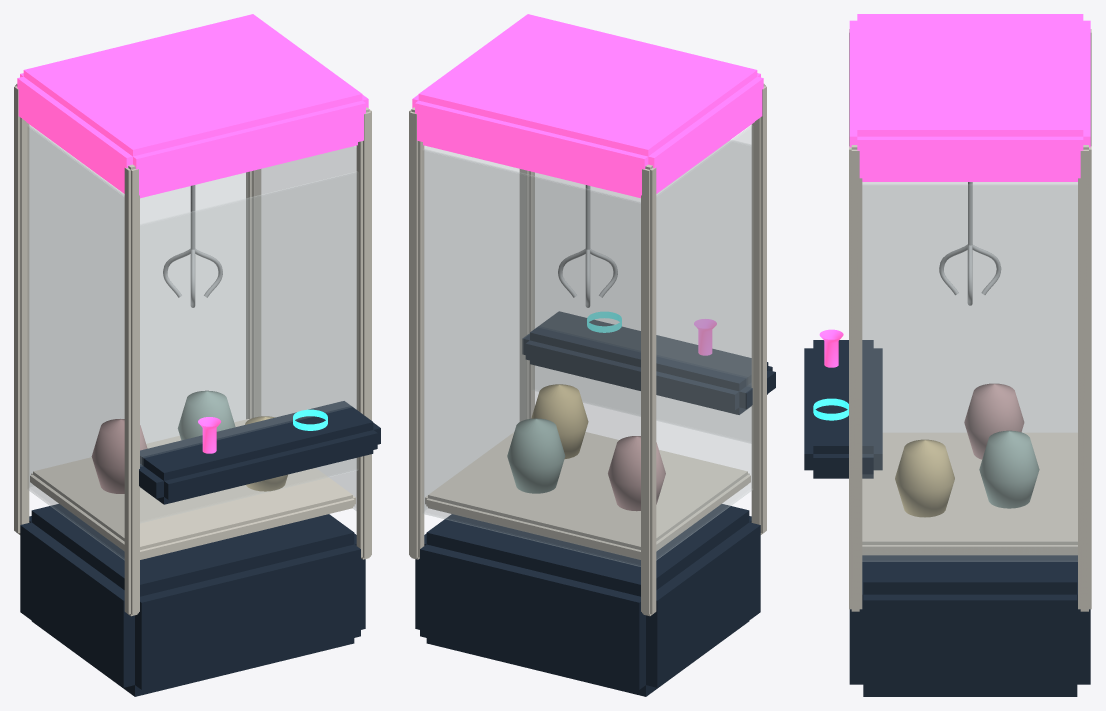
Rendered from fixture_v25_prize_crane.glb.
3 renders of one model, left to right at view 1: azimuth 30°, elevation 25°; view 2: azimuth 150°, elevation 25°; view 3: azimuth 270°, elevation 25°, orthographic. The views are drawn at different scales.
Parts seen in each view (by area): view 1: fixture_v25_prize_crane_Shop_display_glass, fixture_v25_prize_crane_V25_arcade_navy, fixture_v25_prize_crane_V25_neon_pink, fixture_v25_prize_crane_V25_satin_ivory, fixture_v25_prize_crane_V25_prize_0, fixture_v25_prize_crane_V25_prize_1, fixture_v25_prize_crane_Brushed_stainless; view 2: fixture_v25_prize_crane_Shop_display_glass, fixture_v25_prize_crane_V25_arcade_navy, fixture_v25_prize_crane_V25_satin_ivory, fixture_v25_prize_crane_V25_neon_pink, fixture_v25_prize_crane_V25_prize_1, fixture_v25_prize_crane_V25_prize_2, fixture_v25_prize_crane_V25_prize_0, fixture_v25_prize_crane_Brushed_stainless; view 3: fixture_v25_prize_crane_Shop_display_glass, fixture_v25_prize_crane_V25_arcade_navy, fixture_v25_prize_crane_V25_neon_pink, fixture_v25_prize_crane_V25_satin_ivory, fixture_v25_prize_crane_V25_prize_1, fixture_v25_prize_crane_V25_prize_2, fixture_v25_prize_crane_V25_prize_0, fixture_v25_prize_crane_Brushed_stainless, fixture_v25_prize_crane_V25_neon_cyan.
Part boxes in pixels (bbox=[...]): fixture_v25_prize_crane_Shop_display_glass: bbox=[28, 125, 358, 560]; fixture_v25_prize_crane_V25_arcade_navy: bbox=[20, 401, 380, 696]; fixture_v25_prize_crane_V25_neon_pink: bbox=[17, 14, 368, 453]; fixture_v25_prize_crane_V25_satin_ivory: bbox=[14, 83, 371, 616]; fixture_v25_prize_crane_V25_prize_0: bbox=[91, 419, 147, 493]; fixture_v25_prize_crane_V25_prize_1: bbox=[178, 390, 235, 439]; fixture_v25_prize_crane_Brushed_stainless: bbox=[163, 185, 222, 307]; fixture_v25_prize_crane_Shop_display_glass: bbox=[422, 125, 752, 566]; fixture_v25_prize_crane_V25_arcade_navy: bbox=[415, 311, 775, 696]; fixture_v25_prize_crane_V25_satin_ivory: bbox=[409, 83, 766, 616]; fixture_v25_prize_crane_V25_neon_pink: bbox=[412, 14, 763, 355]; fixture_v25_prize_crane_V25_prize_1: bbox=[507, 418, 565, 493]; fixture_v25_prize_crane_V25_prize_2: bbox=[531, 384, 588, 458]; fixture_v25_prize_crane_V25_prize_0: bbox=[608, 436, 665, 510]; fixture_v25_prize_crane_Brushed_stainless: bbox=[558, 185, 617, 307]; fixture_v25_prize_crane_Shop_display_glass: bbox=[862, 182, 1077, 561]; fixture_v25_prize_crane_V25_arcade_navy: bbox=[804, 340, 1090, 696]; fixture_v25_prize_crane_V25_neon_pink: bbox=[819, 14, 1090, 367]; fixture_v25_prize_crane_V25_satin_ivory: bbox=[849, 29, 1091, 611]; fixture_v25_prize_crane_V25_prize_1: bbox=[979, 430, 1039, 508]; fixture_v25_prize_crane_V25_prize_2: bbox=[895, 439, 954, 517]; fixture_v25_prize_crane_V25_prize_0: bbox=[964, 383, 1024, 459]; fixture_v25_prize_crane_Brushed_stainless: bbox=[939, 182, 1001, 305]; fixture_v25_prize_crane_V25_neon_cyan: bbox=[813, 398, 848, 420].
Bounding box in the file's own units: 0.965 × 2.09 × 0.9525.
